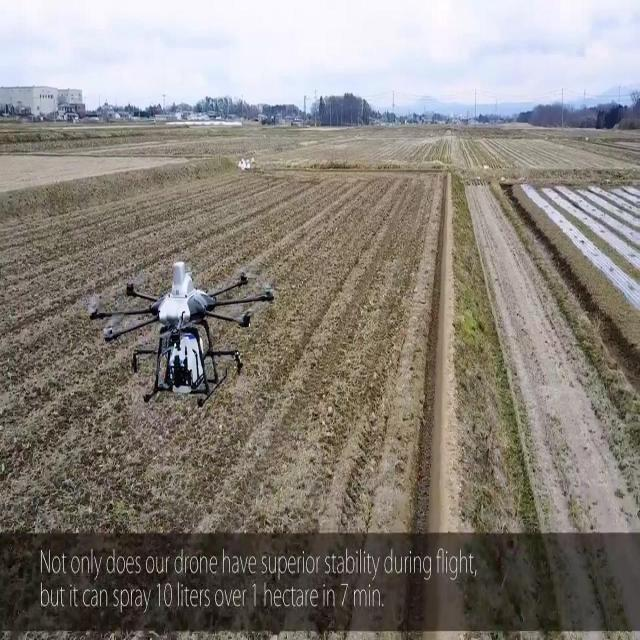UAV: (90, 260, 274, 409)
